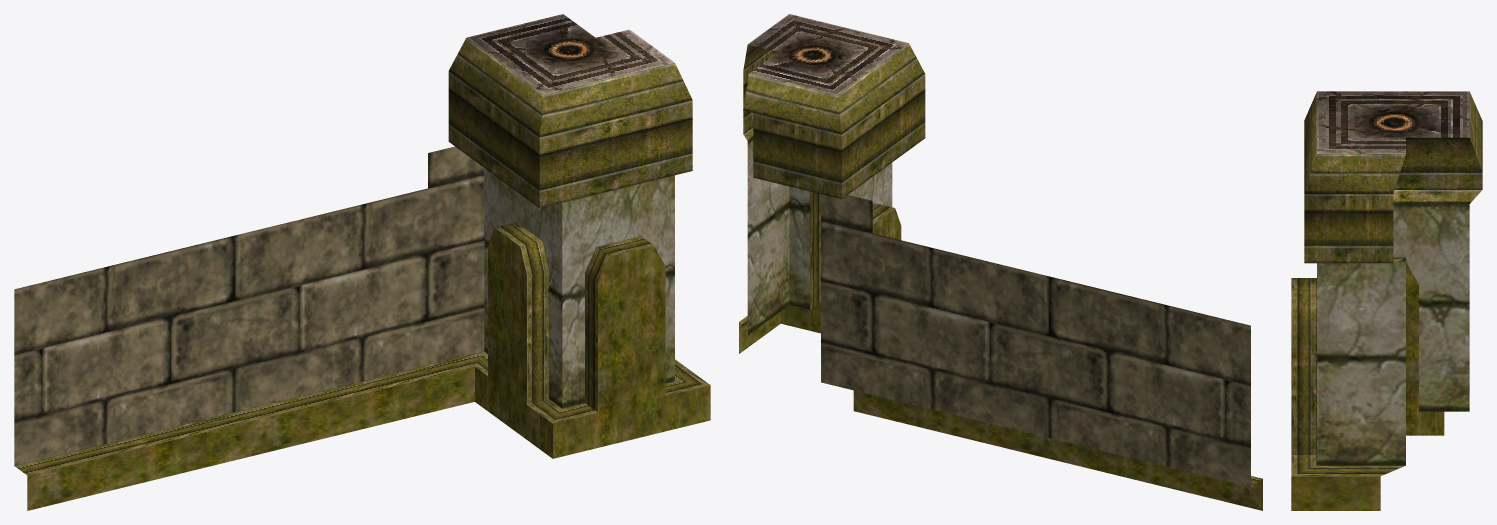
Rendered from OVERHILL_A_01_OBJECT77.fbx.
3 views of the same model, side by side, from view 1: azimuth 30°, elevation 25°; view 2: azimuth 150°, elevation 25°; view 3: azimuth 270°, elevation 25° (orthographic). The views are drawn at different scales.
Parts seen in each view (by area): view 1: OVERHILL_A_01_OBJECT77; view 2: OVERHILL_A_01_OBJECT77; view 3: OVERHILL_A_01_OBJECT77.
Boxes of the visible parts, box(x1,y1,x2,y2) form: OVERHILL_A_01_OBJECT77: box(14, 14, 710, 510); OVERHILL_A_01_OBJECT77: box(739, 14, 1262, 510); OVERHILL_A_01_OBJECT77: box(1291, 91, 1482, 510).
Bounding box in the file's own units: 53729 × 30000 × 15000.
6 materials, 6 textured.
